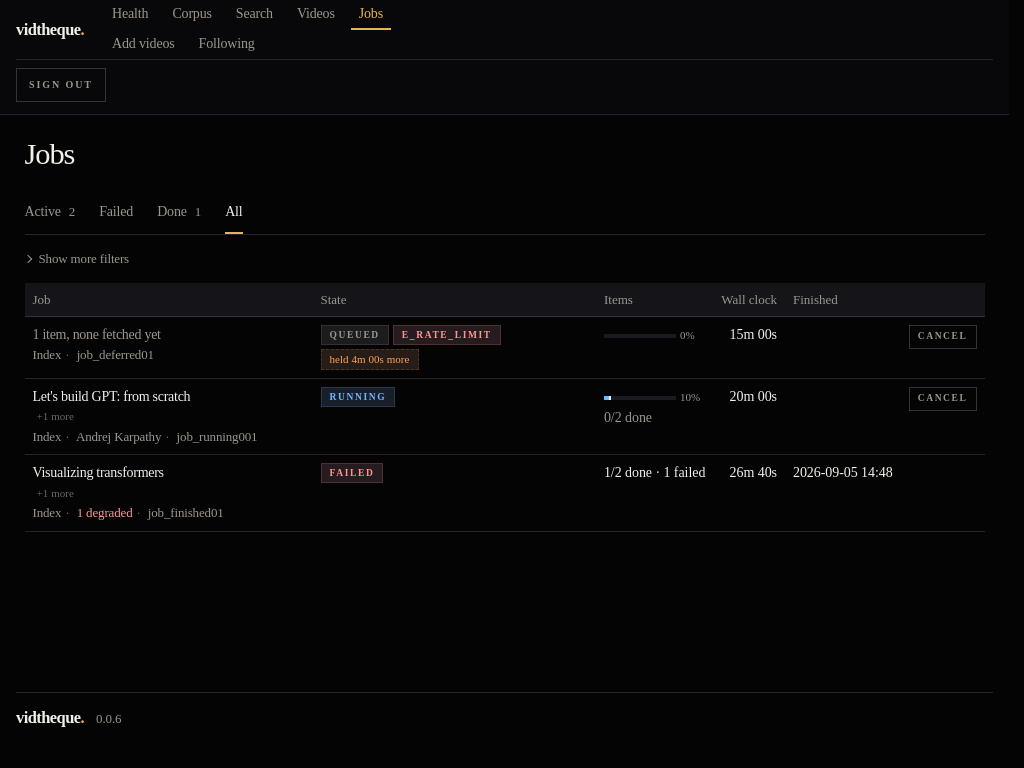
Test: the jobs table › the write column › cancels a live job and shows the state it is now in
This screenshot has width=1024, height=768.
What coordinates should you click on to do the following:
click the button "Cancel" in the row of "1 item, none fetched yet"
I would click on:
 (943, 337)
Its box is [909,325,976,349].
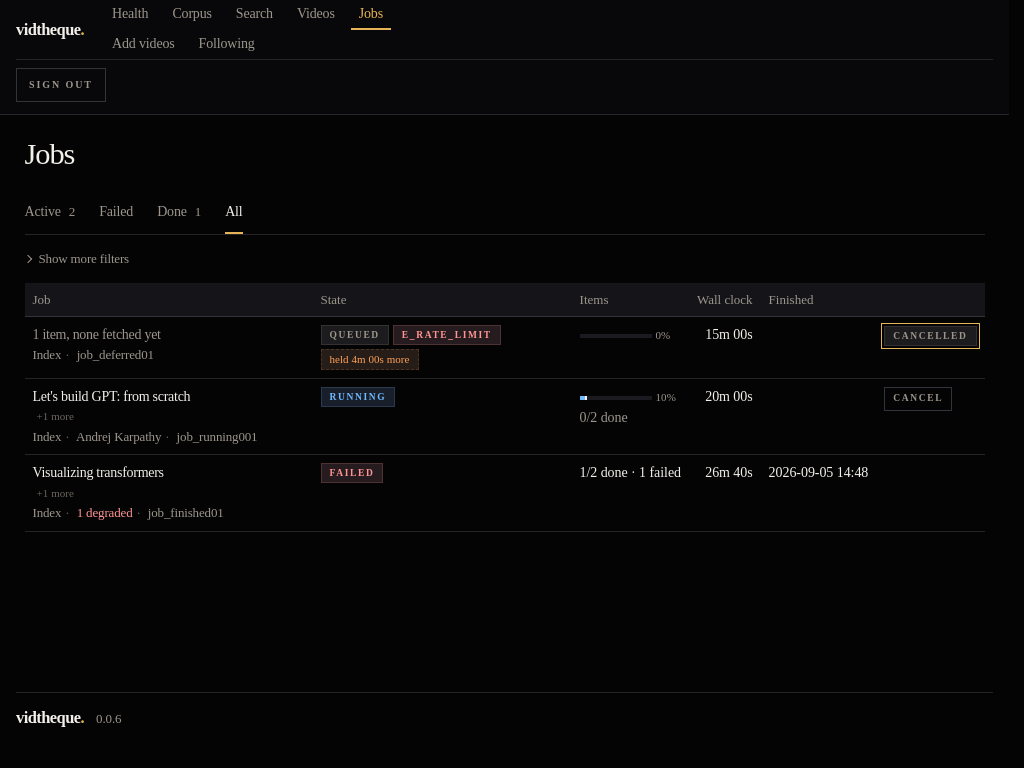
Expected: the text "cancelled" is shown, [884,326,976,346]
